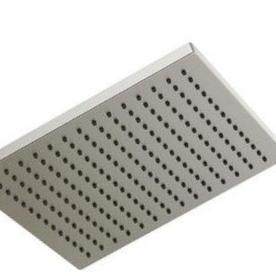Ducha: (0, 24, 275, 273)
